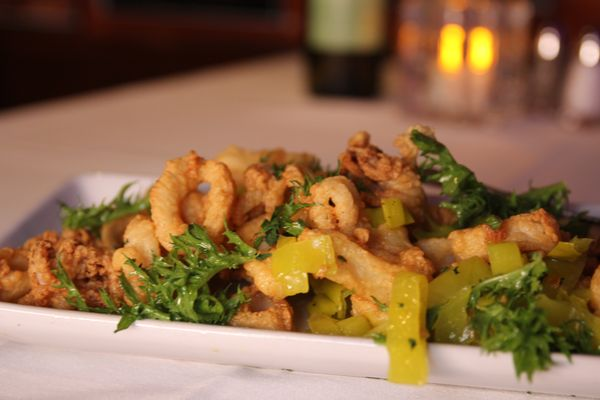curry: (429, 251, 599, 384)
